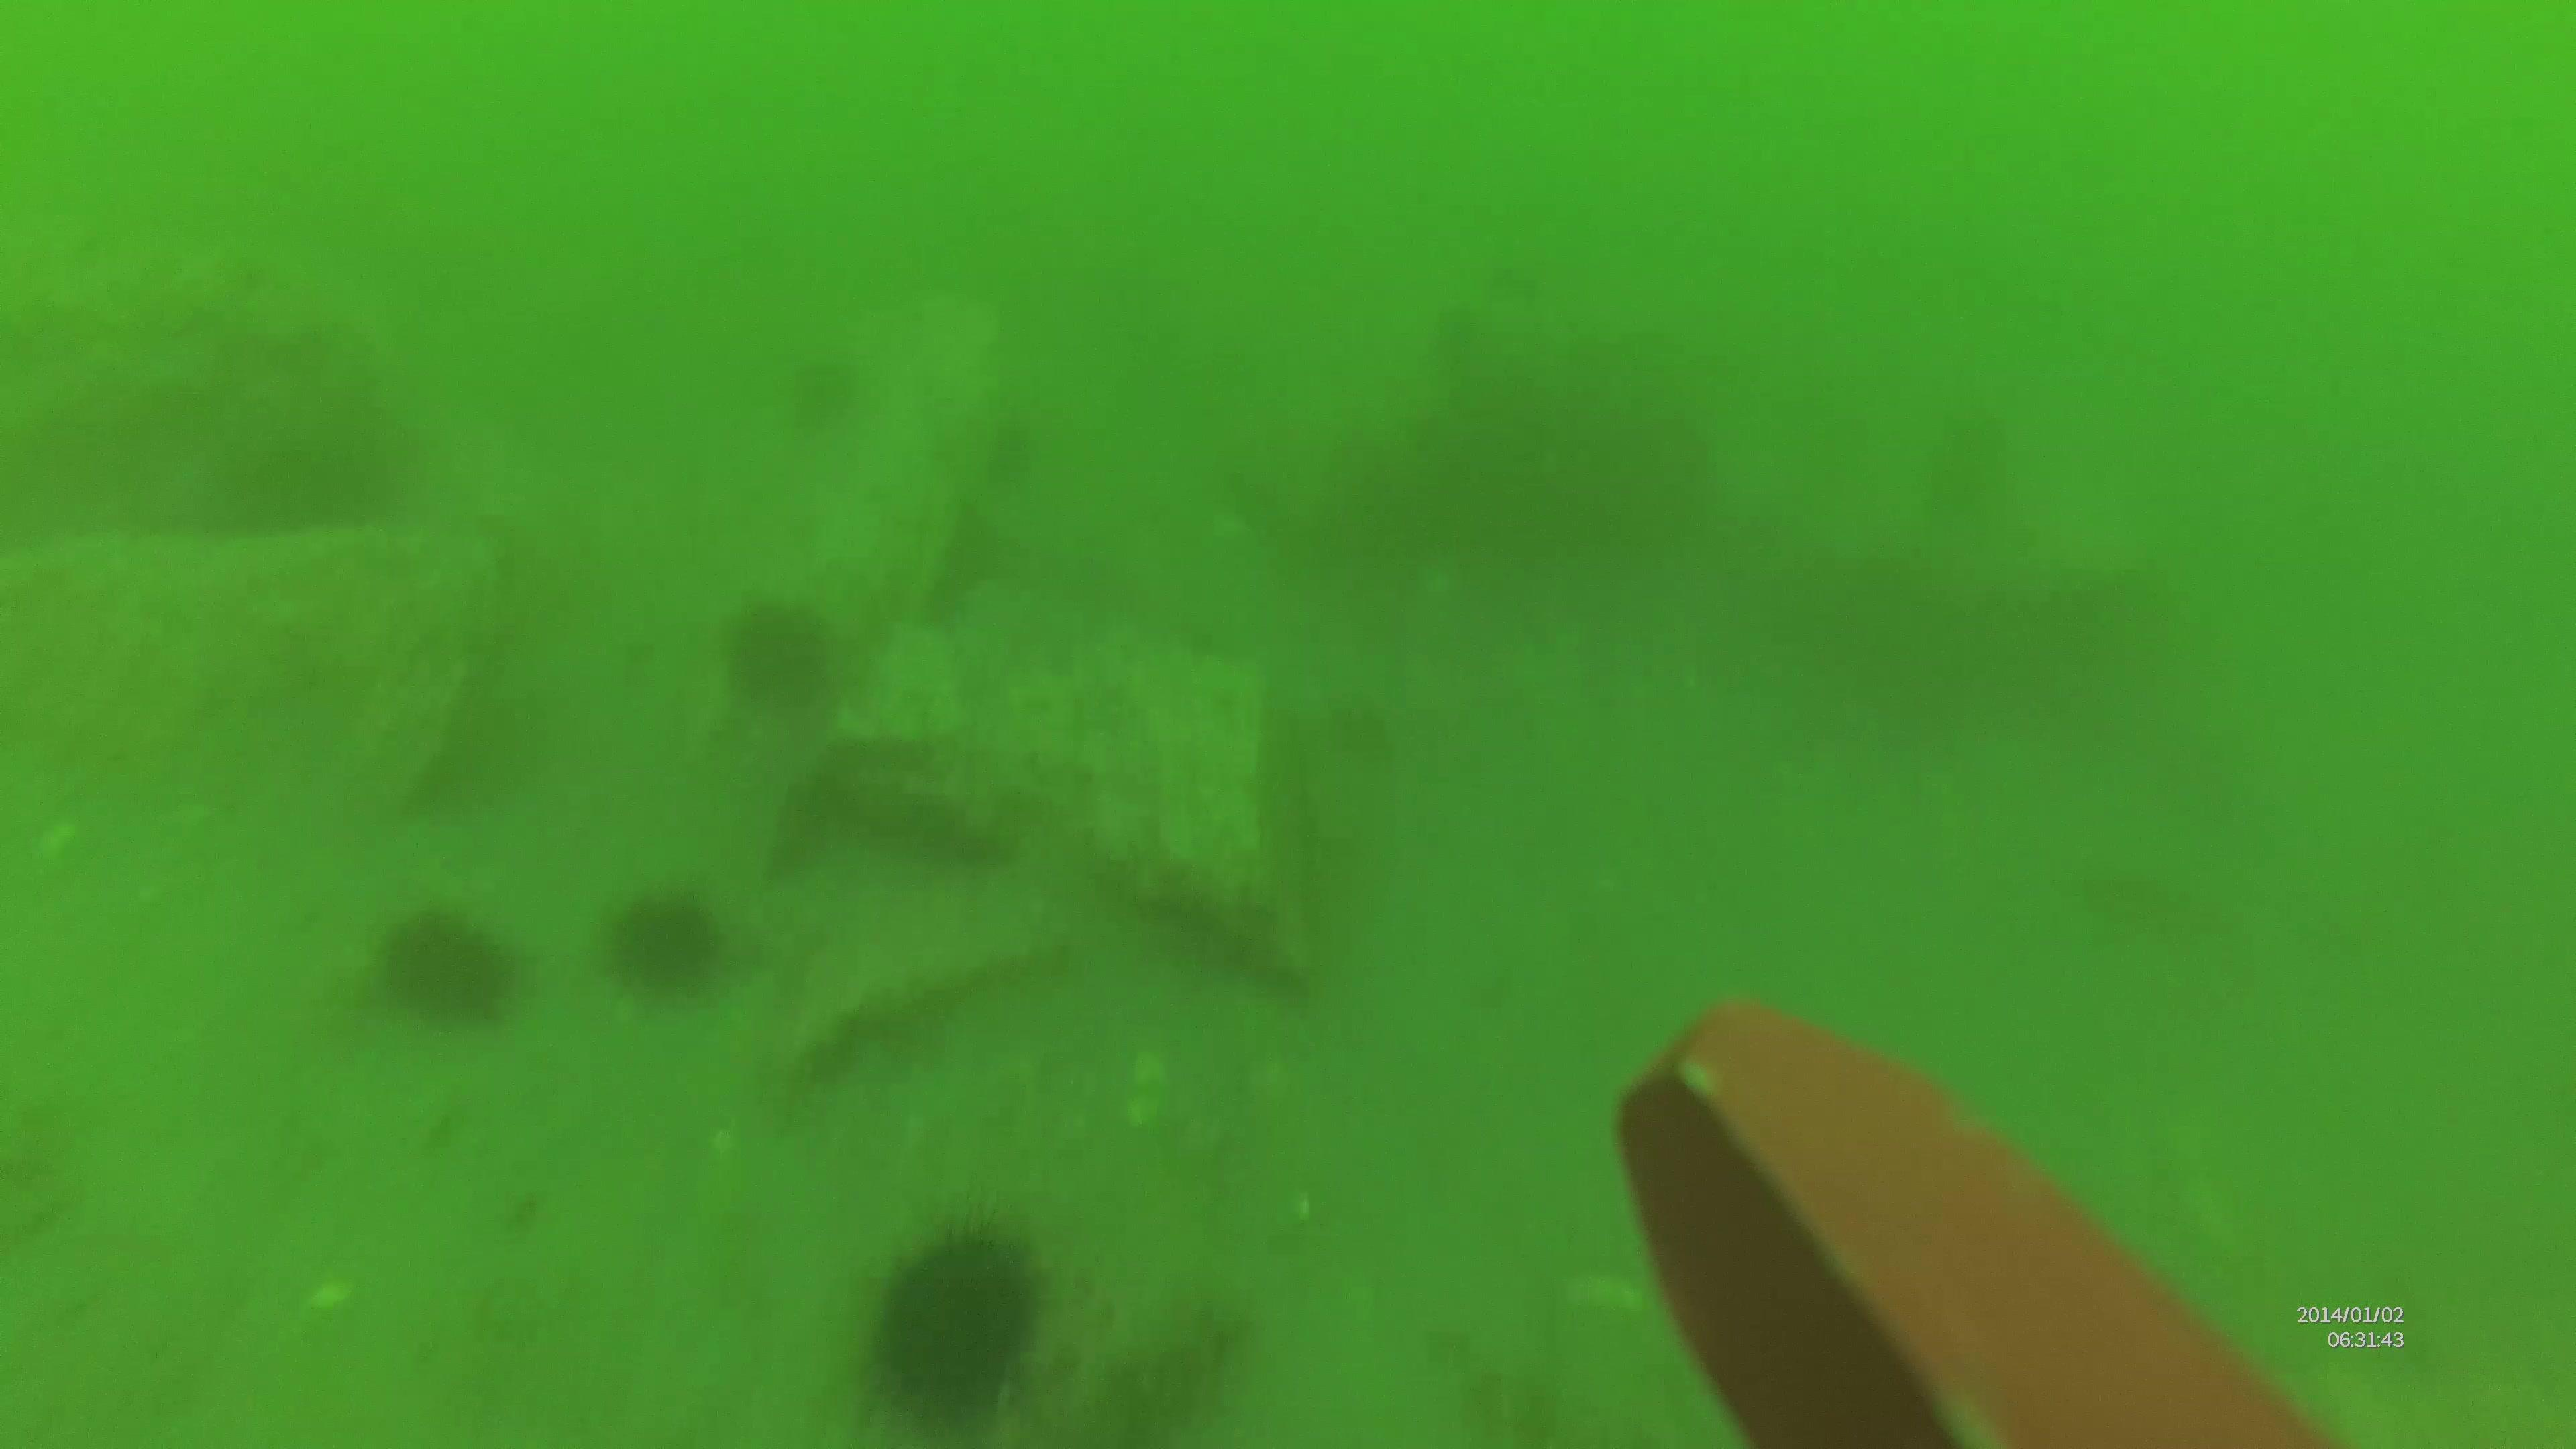echinus: (870, 1210, 1053, 1405), (373, 904, 508, 1021), (573, 895, 713, 1000), (715, 591, 832, 699)
